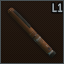L1 Norepinephrine injector: (0, 0, 64, 64)
